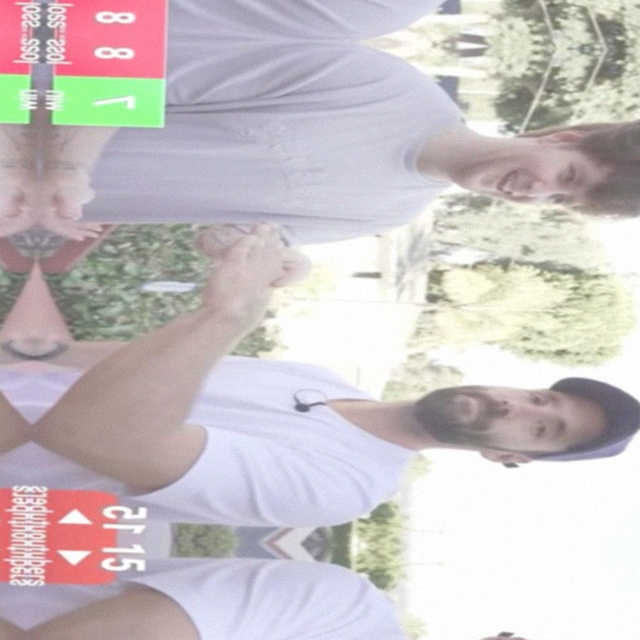Paper: (208, 217, 285, 313)
Scissors: (271, 250, 319, 290)
